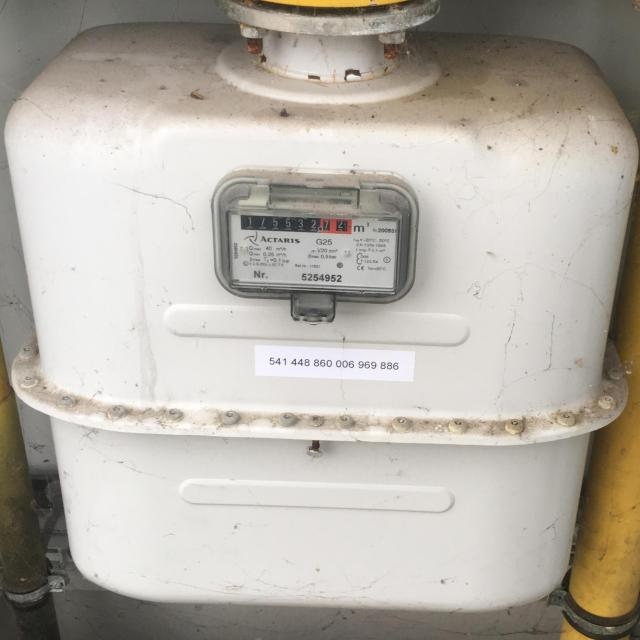gaz_meter: (215, 180, 408, 296)
indication: (240, 211, 353, 236)
